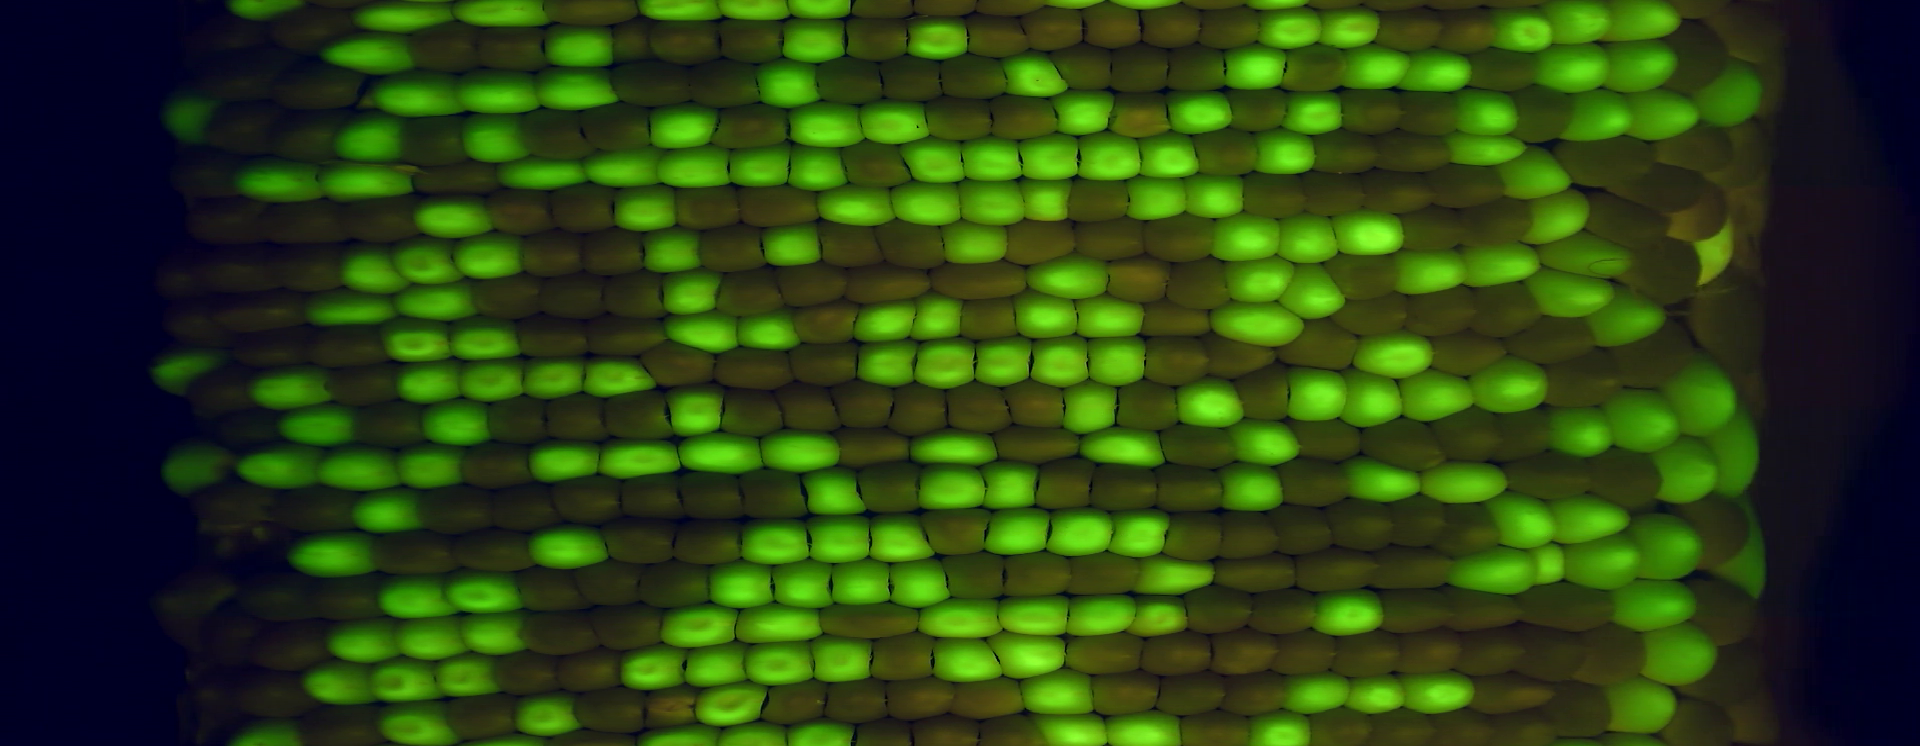fluorescent: (1662, 353, 1738, 441), (1622, 513, 1707, 586), (1646, 431, 1725, 507), (1600, 386, 1682, 459), (1589, 282, 1674, 350), (1537, 225, 1637, 281), (1635, 624, 1720, 687), (1708, 397, 1760, 502), (1485, 488, 1564, 555), (1469, 355, 1554, 418), (1210, 296, 1307, 349), (1438, 546, 1544, 594), (1527, 265, 1622, 317), (1607, 578, 1701, 631), (1698, 58, 1768, 129), (1223, 412, 1309, 468), (378, 70, 469, 122), (1622, 86, 1703, 143), (1603, 37, 1681, 96), (317, 33, 419, 78), (1401, 363, 1477, 423), (1338, 453, 1429, 503), (454, 65, 542, 116), (811, 178, 899, 229), (800, 508, 878, 566), (1022, 252, 1112, 303), (1018, 668, 1104, 719), (1309, 588, 1393, 641), (287, 530, 382, 577), (1333, 366, 1404, 429), (320, 617, 407, 668), (1283, 363, 1353, 425), (298, 657, 378, 710), (1176, 376, 1253, 432), (1549, 492, 1633, 544), (740, 637, 823, 688), (229, 442, 323, 488), (756, 428, 845, 475), (1482, 4, 1558, 59), (241, 156, 324, 206), (1536, 39, 1613, 93), (1389, 246, 1476, 294), (1162, 86, 1240, 138), (156, 442, 234, 495), (334, 111, 409, 167), (731, 601, 824, 646), (274, 402, 362, 448), (1567, 538, 1644, 590), (1498, 146, 1575, 198), (988, 627, 1069, 677), (1419, 461, 1513, 503), (304, 285, 398, 328), (1071, 292, 1153, 341), (662, 601, 744, 650), (1547, 403, 1616, 461), (313, 162, 422, 198), (1599, 682, 1679, 733), (928, 633, 1008, 684), (1284, 260, 1348, 322), (740, 514, 813, 568), (917, 594, 1004, 639), (951, 176, 1030, 227), (732, 305, 808, 356), (531, 64, 620, 108), (594, 435, 680, 480), (1206, 211, 1283, 261), (889, 176, 964, 228), (1354, 333, 1439, 379), (380, 315, 456, 365), (1030, 333, 1096, 391), (1329, 208, 1408, 256), (1400, 669, 1479, 717), (1402, 47, 1476, 98), (1082, 424, 1171, 467), (1212, 463, 1286, 514), (1520, 191, 1593, 243), (1128, 587, 1196, 642), (617, 641, 691, 692), (529, 526, 612, 571), (1565, 89, 1635, 143), (381, 572, 456, 622), (789, 99, 867, 147), (1442, 129, 1529, 171), (1599, 1, 1684, 45), (1276, 211, 1342, 267), (1221, 256, 1297, 305), (418, 398, 497, 445), (350, 1, 458, 36), (1217, 42, 1291, 92), (1058, 375, 1119, 435), (678, 431, 764, 474), (661, 307, 742, 353), (648, 100, 722, 149), (1078, 127, 1144, 183), (1051, 85, 1118, 138), (1540, 1, 1616, 49), (447, 567, 523, 615), (452, 233, 528, 281), (1136, 551, 1218, 595), (809, 631, 878, 684), (612, 183, 686, 232), (909, 430, 1003, 468), (664, 383, 729, 439), (317, 447, 403, 489), (1065, 592, 1140, 639), (458, 113, 533, 160), (148, 347, 223, 394), (753, 59, 820, 111), (530, 439, 602, 488), (778, 18, 853, 65), (253, 366, 338, 408), (449, 314, 523, 361), (867, 513, 937, 563), (1051, 505, 1116, 559), (773, 556, 838, 610), (856, 97, 933, 142), (973, 334, 1040, 387), (913, 338, 980, 391), (1014, 132, 1085, 181), (396, 615, 470, 661), (1343, 44, 1411, 96), (392, 281, 480, 320), (1108, 503, 1168, 561), (682, 639, 754, 687), (918, 465, 991, 513), (899, 15, 971, 62), (656, 267, 729, 315), (1251, 127, 1321, 176), (852, 338, 922, 387), (693, 684, 773, 726), (831, 559, 898, 610), (1313, 6, 1387, 51), (367, 660, 442, 706), (582, 353, 656, 398), (546, 23, 621, 69), (1281, 88, 1348, 138), (1179, 171, 1247, 222), (373, 703, 457, 744), (1029, 707, 1114, 746), (1464, 243, 1540, 287), (784, 142, 849, 194), (642, 223, 707, 274), (1125, 171, 1191, 222), (587, 149, 669, 190), (1730, 521, 1773, 598), (513, 691, 584, 737), (999, 51, 1070, 98), (939, 218, 1010, 265), (1138, 127, 1199, 181), (707, 562, 775, 610), (658, 146, 736, 187), (887, 559, 951, 609), (430, 654, 506, 697), (722, 145, 798, 187), (391, 238, 460, 284), (158, 89, 217, 145), (1014, 288, 1081, 336), (456, 356, 528, 401), (497, 156, 587, 191), (800, 470, 869, 516), (463, 609, 529, 657), (416, 200, 502, 236), (344, 244, 407, 294), (1455, 88, 1518, 137), (988, 507, 1052, 556), (1287, 670, 1356, 715), (1100, 710, 1187, 746), (996, 593, 1071, 633), (1256, 7, 1325, 51), (902, 137, 969, 183), (393, 450, 467, 490), (982, 461, 1041, 511), (855, 298, 920, 343), (964, 134, 1024, 183), (758, 222, 823, 266), (911, 292, 965, 344), (1019, 173, 1071, 225), (520, 359, 589, 399), (448, 1, 551, 28), (1349, 673, 1411, 717), (351, 492, 422, 530), (227, 712, 302, 746), (396, 361, 460, 401), (1245, 710, 1315, 746), (779, 717, 861, 746), (716, 717, 791, 746), (1527, 541, 1571, 586), (632, 725, 721, 746), (718, 1, 797, 24), (636, 1, 731, 20), (223, 1, 306, 20), (785, 1, 853, 21), (1240, 1, 1318, 15), (1043, 1, 1109, 12), (1107, 1, 1179, 10)
nonfluorescent: (1691, 265, 1771, 372), (1678, 492, 1753, 579), (1680, 572, 1762, 650), (146, 575, 234, 644), (1620, 236, 1704, 309), (1584, 187, 1671, 257), (1509, 311, 1607, 366), (1660, 22, 1734, 96), (1681, 646, 1766, 708), (1517, 582, 1619, 632), (272, 54, 369, 107), (1536, 352, 1624, 409), (1556, 134, 1653, 185), (1513, 625, 1588, 688), (1284, 315, 1360, 377), (203, 98, 280, 159), (272, 100, 344, 165), (255, 197, 345, 249), (1362, 416, 1445, 472), (413, 481, 496, 537), (234, 318, 321, 371), (1607, 338, 1693, 391), (1501, 451, 1597, 499), (185, 477, 278, 524), (1424, 330, 1512, 380), (474, 21, 556, 75), (1652, 122, 1734, 176), (518, 108, 598, 163), (609, 59, 700, 107), (1577, 624, 1646, 687), (1622, 160, 1703, 214), (927, 257, 1031, 299), (600, 516, 682, 568), (1321, 499, 1400, 554), (274, 481, 358, 533), (236, 570, 320, 621), (1434, 499, 1505, 559), (812, 216, 890, 269), (369, 528, 459, 575), (408, 18, 482, 75), (1664, 179, 1731, 241), (269, 9, 355, 58), (731, 179, 820, 225), (1587, 450, 1664, 503), (733, 468, 811, 522), (253, 619, 334, 670), (1370, 546, 1457, 594), (180, 198, 264, 247), (518, 608, 602, 657), (1151, 462, 1228, 514), (550, 475, 627, 528), (615, 472, 692, 524), (1469, 279, 1537, 339), (239, 669, 323, 717), (340, 195, 422, 244), (1162, 255, 1232, 312), (271, 239, 348, 290), (1070, 213, 1147, 265), (201, 55, 282, 104), (1444, 586, 1524, 635), (1438, 409, 1507, 465), (675, 468, 746, 523), (819, 601, 922, 639), (458, 441, 538, 490), (1200, 330, 1280, 379), (1089, 461, 1161, 514), (583, 314, 673, 356), (687, 59, 764, 109), (1325, 250, 1402, 300), (1360, 167, 1438, 217), (671, 517, 744, 570), (710, 102, 791, 149), (1273, 459, 1354, 507), (451, 526, 531, 573), (947, 379, 1016, 434), (1718, 120, 1773, 190), (1376, 127, 1455, 176), (1510, 85, 1573, 145), (1734, 363, 1780, 445), (1187, 127, 1262, 178), (987, 91, 1063, 141), (836, 140, 913, 189), (1723, 13, 1791, 69), (989, 426, 1082, 467), (1400, 288, 1480, 334), (1379, 588, 1460, 635), (311, 573, 392, 620), (579, 99, 654, 149), (876, 222, 950, 272), (1463, 198, 1538, 249), (1142, 333, 1213, 386), (309, 323, 393, 367), (168, 148, 240, 200), (1109, 379, 1182, 430), (1336, 86, 1408, 137), (771, 377, 839, 432), (844, 262, 936, 303), (1267, 503, 1335, 559), (1544, 684, 1613, 737), (1466, 675, 1560, 714), (516, 312, 593, 360), (1464, 47, 1542, 94), (1180, 584, 1258, 632), (1163, 511, 1227, 568), (1395, 205, 1469, 254), (917, 508, 992, 557), (602, 390, 673, 441), (485, 187, 556, 239), (999, 377, 1070, 429), (1216, 510, 1287, 561), (838, 428, 916, 474), (718, 383, 784, 439), (713, 345, 795, 390), (1063, 631, 1145, 675), (211, 408, 290, 453), (714, 268, 787, 317), (922, 94, 996, 143), (1293, 551, 1385, 590), (1667, 697, 1740, 746), (889, 381, 951, 439), (1142, 216, 1220, 262), (1431, 163, 1509, 209), (648, 15, 722, 62), (201, 244, 272, 294), (940, 551, 1011, 601), (869, 633, 940, 684), (1229, 369, 1296, 423), (400, 114, 468, 167), (202, 597, 255, 664), (643, 342, 719, 388), (1003, 219, 1079, 266), (1240, 169, 1309, 220), (1300, 168, 1369, 219), (1090, 673, 1169, 717), (1106, 255, 1176, 305), (787, 300, 864, 345), (160, 299, 227, 352), (535, 269, 606, 318), (673, 184, 744, 233), (1251, 589, 1322, 638), (697, 225, 771, 272), (812, 59, 887, 105), (588, 604, 662, 650), (546, 393, 613, 445), (829, 381, 896, 432), (1049, 42, 1117, 93), (857, 465, 924, 517), (1333, 293, 1412, 337), (939, 51, 1011, 99), (217, 292, 310, 328), (550, 183, 620, 232), (514, 565, 588, 611), (640, 562, 714, 609), (1002, 552, 1075, 599), (304, 704, 386, 746), (1160, 426, 1239, 469), (1213, 554, 1300, 593), (1109, 89, 1176, 141), (573, 688, 650, 733), (715, 13, 786, 61), (1308, 131, 1382, 176), (444, 695, 519, 740), (1398, 85, 1460, 140), (600, 269, 669, 318), (1461, 628, 1529, 677), (1140, 633, 1216, 677), (1068, 174, 1133, 225), (413, 157, 503, 194), (573, 562, 647, 608), (486, 396, 552, 446), (1281, 45, 1347, 96), (522, 227, 584, 279), (580, 227, 649, 274), (492, 479, 556, 530), (951, 676, 1027, 719), (844, 17, 913, 64), (1033, 459, 1095, 512), (1386, 496, 1449, 548), (1068, 552, 1142, 595), (189, 371, 258, 416), (1108, 47, 1174, 94), (1292, 418, 1365, 461), (1216, 674, 1289, 717), (471, 274, 542, 318), (823, 680, 894, 724), (787, 341, 860, 383), (1169, 42, 1229, 93), (1213, 628, 1280, 675), (1141, 299, 1215, 341), (1373, 10, 1446, 51), (1438, 9, 1500, 58), (1141, 4, 1205, 51), (153, 250, 211, 303), (775, 265, 852, 304), (1330, 635, 1407, 674), (880, 55, 945, 102), (1499, 404, 1549, 464), (888, 677, 960, 719), (1224, 87, 1291, 132), (326, 364, 402, 403), (1152, 677, 1228, 717), (958, 296, 1025, 341), (1401, 632, 1466, 677), (553, 649, 626, 690), (1196, 7, 1262, 51), (1176, 710, 1258, 746), (1276, 630, 1338, 676), (359, 398, 422, 443), (1025, 9, 1085, 56), (1082, 4, 1142, 51), (493, 653, 560, 696), (966, 13, 1029, 59), (196, 11, 263, 53), (762, 684, 829, 725), (190, 670, 245, 720), (549, 1, 647, 28), (1305, 710, 1378, 746), (1374, 709, 1442, 746), (909, 714, 986, 746), (1438, 706, 1495, 746), (606, 20, 658, 64), (973, 717, 1049, 746), (849, 717, 917, 746), (549, 725, 645, 746), (647, 688, 698, 726), (1504, 712, 1554, 746), (1671, 1, 1738, 21), (910, 1, 980, 20), (977, 1, 1046, 18), (849, 1, 912, 20), (1487, 1, 1547, 13), (1427, 1, 1483, 13), (1364, 1, 1424, 10), (1180, 1, 1250, 9), (1309, 1, 1360, 11), (313, 1, 371, 10)
